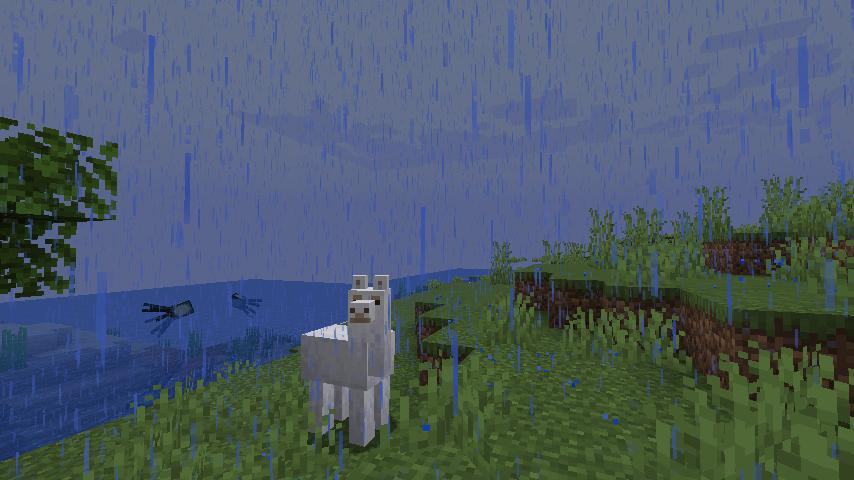llama: (298, 272, 401, 450)
